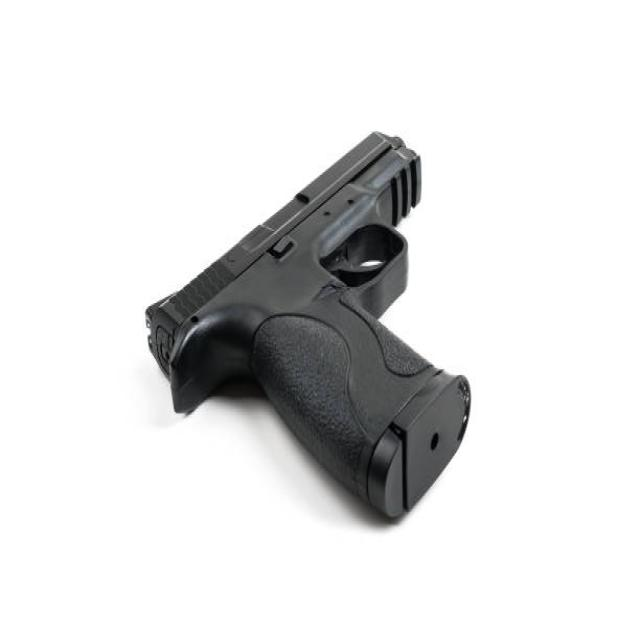pistol: (138, 120, 474, 539)
